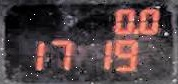-: (133, 28, 138, 33)
0: (137, 8, 157, 33), (114, 8, 133, 33)
1: (102, 40, 111, 69), (35, 40, 43, 70)
7: (51, 39, 70, 70)
9: (113, 39, 136, 70)
